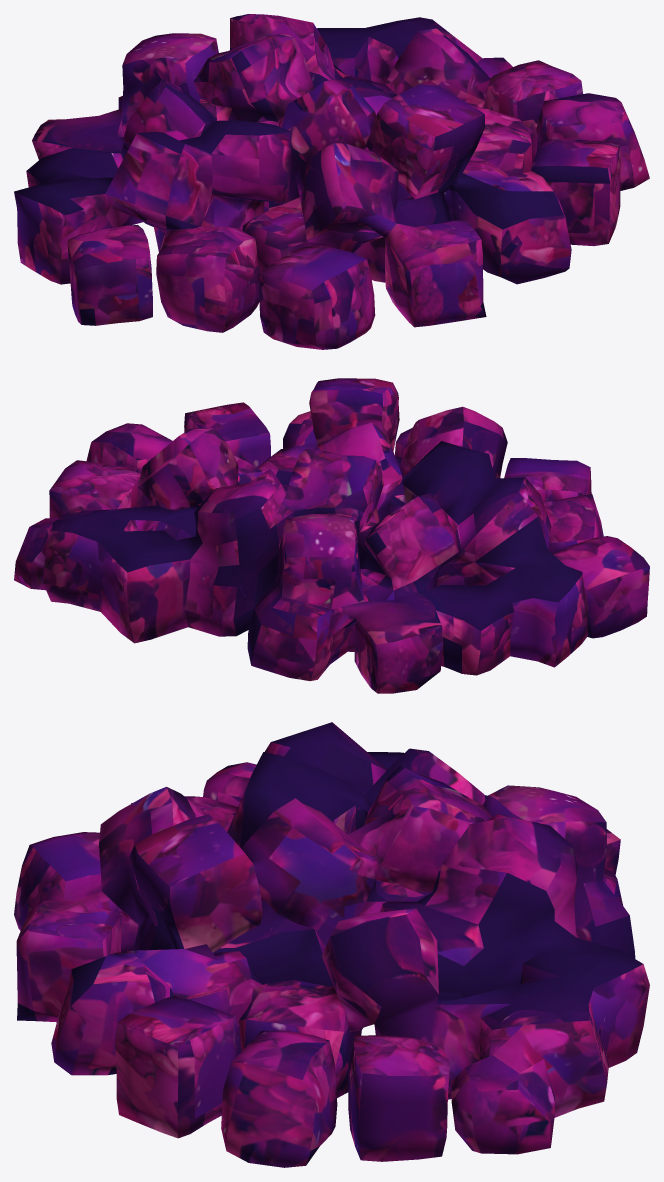
The model's file is olho_cortado.fbx.
The picture shows the model from 3 angles, top to bottom: view 1: azimuth 30°, elevation 25°; view 2: azimuth 150°, elevation 25°; view 3: azimuth 270°, elevation 25°; orthographic projection. The views are drawn at different scales.
Visible parts, largest first — view 1: cortado; view 2: cortado; view 3: cortado.
Boxes of the visible parts, box(x1,y1,x2,y2) form: cortado: box(14, 14, 649, 349); cortado: box(14, 378, 649, 693); cortado: box(14, 722, 649, 1167).
Size of the model in its own units: 87.21 by 25.18 by 68.76.
